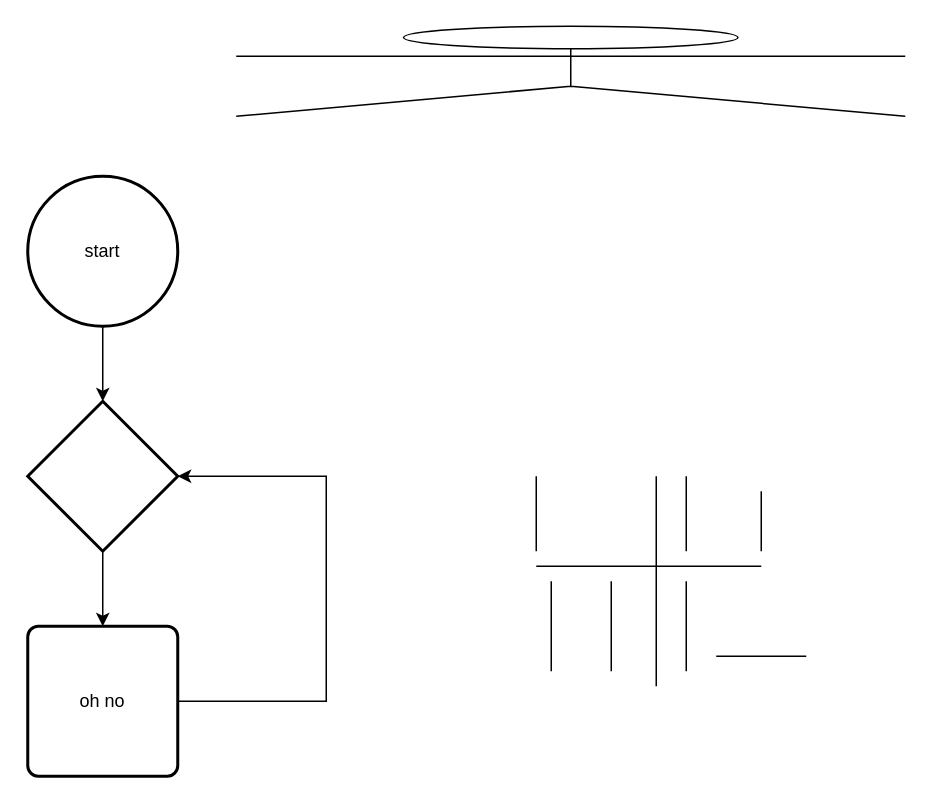
Image size: 932x804. Some labels were removed from this diagram. The shapes that lost their labels are listed below. From the top down, each one's centre as x and y in pixels, then its label:
At point 570,70: "E X P A N D".
At point 102,475: "this is a trap".
